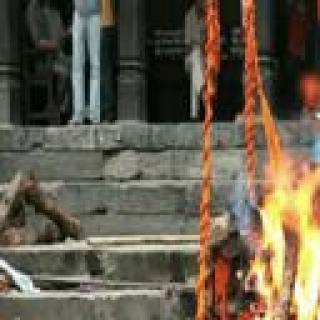fire: (252, 166, 320, 320)
